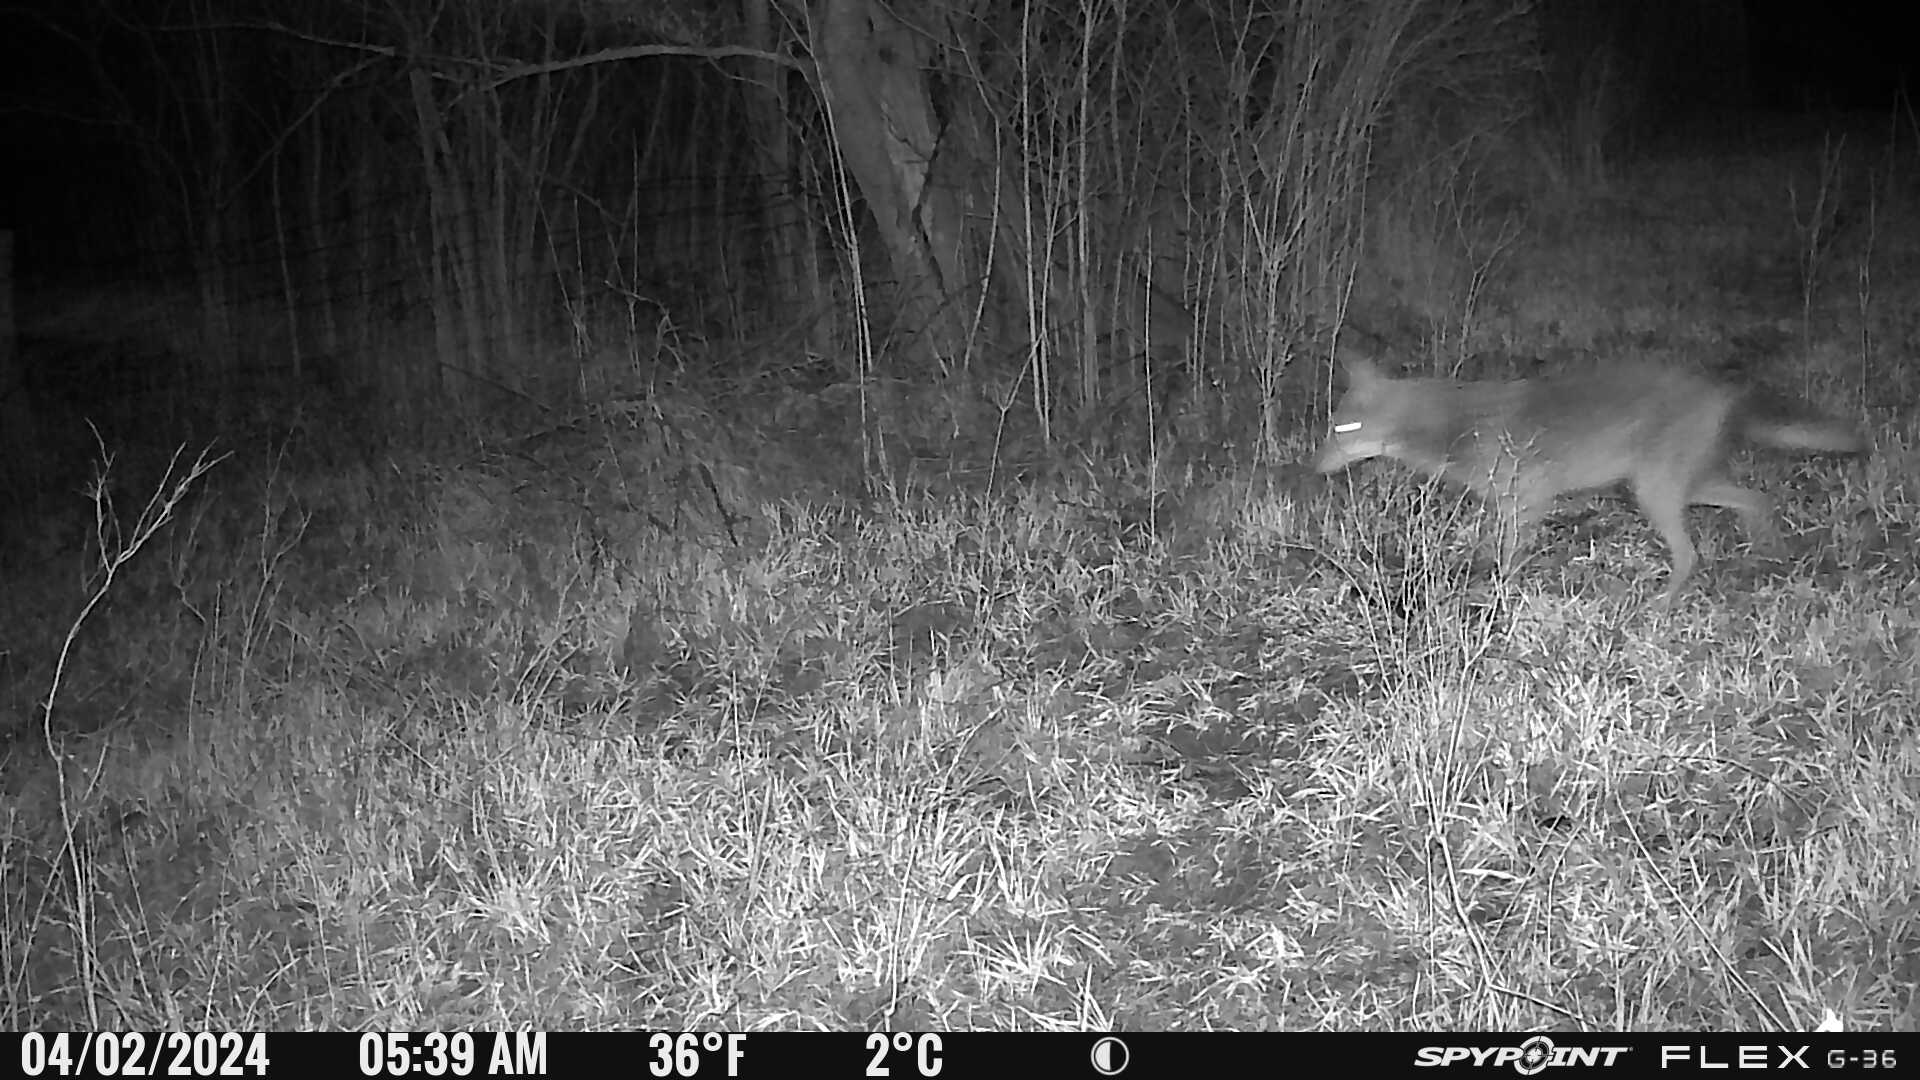Coyote: (1305, 334, 1873, 605)
